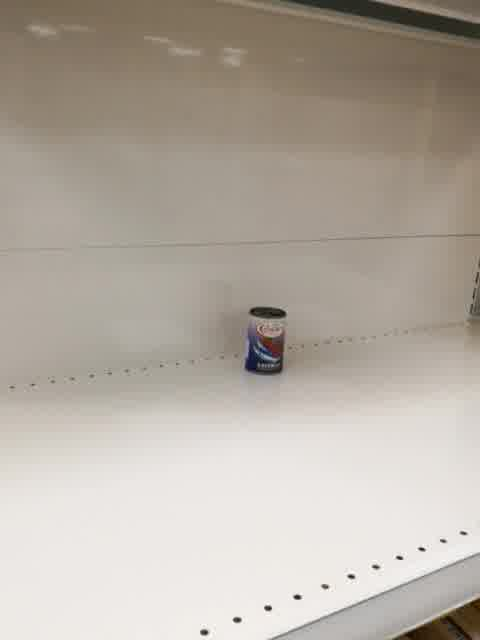sardine: (244, 305, 288, 376)
